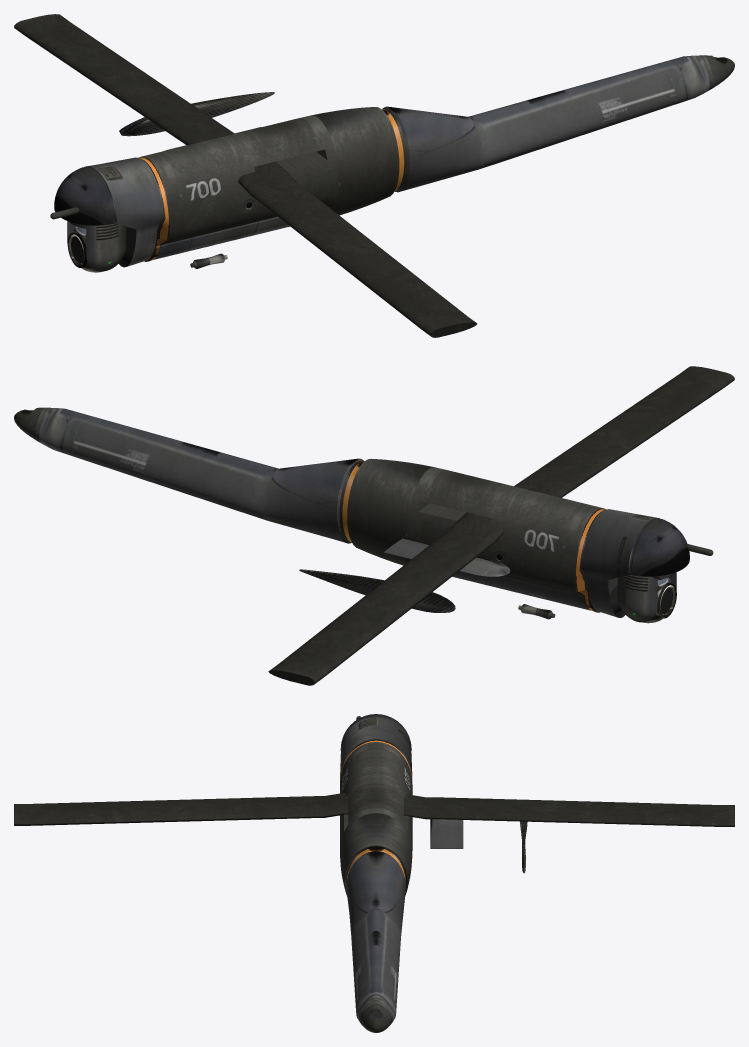
Rendered from KMO2.obj.
3 views of the same model, one above another, from view 1: azimuth 30°, elevation 25°; view 2: azimuth 150°, elevation 25°; view 3: azimuth 270°, elevation 25° (orthographic). The views are drawn at different scales.
Visible parts, largest first — view 1: Mesh003, Cylinder004, Cylinder002, Capsule002, Cylinder012; view 2: Mesh003, Cylinder002, Cylinder004, Capsule002, C-Ext002, Cylinder006, Cylinder012; view 3: Mesh003, Cylinder004, Cylinder002, C-Ext002.
Part boxes in pixels (x1,y1,x2,y2): Mesh003: [50, 55, 719, 267]; Cylinder004: [238, 161, 477, 337]; Cylinder002: [14, 14, 234, 145]; Capsule002: [67, 221, 126, 271]; Cylinder012: [127, 92, 274, 134]; Mesh003: [28, 407, 713, 617]; Cylinder002: [268, 512, 503, 685]; Cylinder004: [514, 366, 734, 497]; Capsule002: [617, 572, 676, 622]; C-Ext002: [384, 538, 510, 576]; Cylinder006: [305, 572, 455, 612]; Cylinder012: [299, 569, 445, 611]; Mesh003: [340, 714, 412, 1026]; Cylinder004: [14, 793, 348, 825]; Cylinder002: [404, 794, 734, 826]; C-Ext002: [430, 819, 463, 848].
Size of the model in its own units: 1053 by 180 by 1104.
2 materials, 1 textured.
